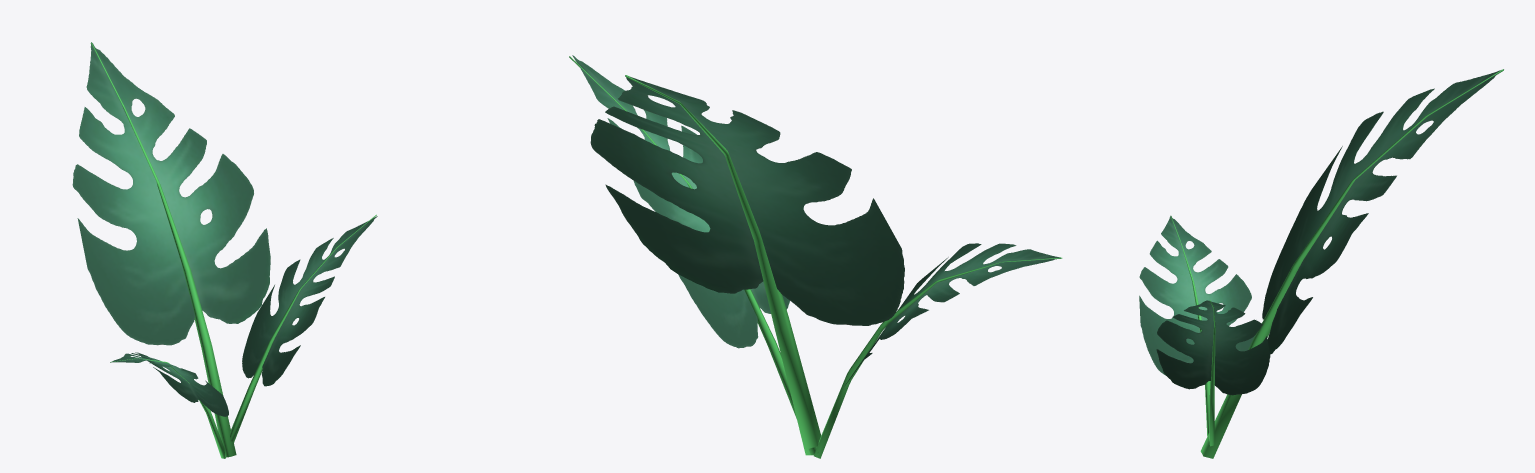
File: greenFern.obj
3 renders of one model, left to right at view 1: azimuth 30°, elevation 25°; view 2: azimuth 150°, elevation 25°; view 3: azimuth 270°, elevation 25°, orthographic. The views are drawn at different scales.
Parts seen in each view (by area): view 1: Cube_Cube.004, Cube.001_Cube.005, Cube.002_Cube.006; view 2: Cube_Cube.004, Cube.001_Cube.005, Cube.002_Cube.006; view 3: Cube_Cube.004, Cube.001_Cube.005, Cube.002_Cube.006.
Part boxes in pixels (bbox=[...]): Cube_Cube.004: bbox=[72, 42, 270, 457]; Cube.001_Cube.005: bbox=[230, 214, 377, 442]; Cube.002_Cube.006: bbox=[110, 352, 228, 458]; Cube_Cube.004: bbox=[590, 75, 904, 455]; Cube.001_Cube.005: bbox=[569, 55, 819, 455]; Cube.002_Cube.006: bbox=[814, 243, 1062, 458]; Cube_Cube.004: bbox=[1200, 69, 1503, 458]; Cube.001_Cube.005: bbox=[1156, 300, 1270, 446]; Cube.002_Cube.006: bbox=[1139, 215, 1255, 435].
Size of the model in its own units: 1.21 by 1.27 by 1.15.
